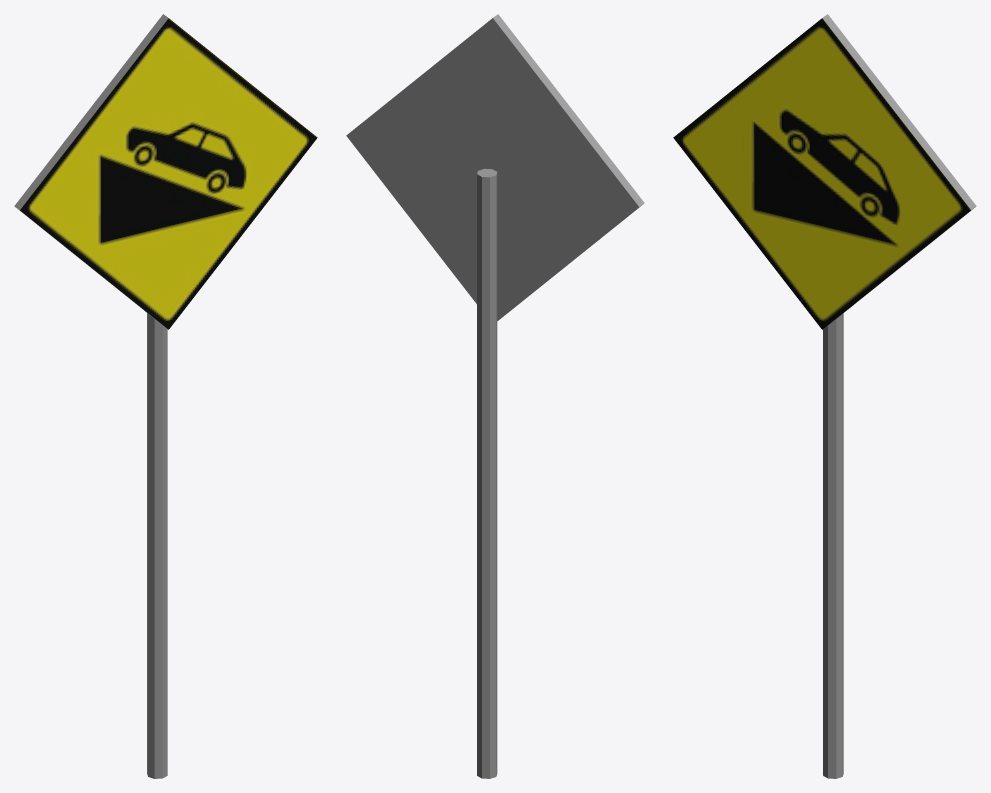
File: PlacaSubida.fbx
The picture shows the model from 3 angles, left to right: view 1: azimuth 30°, elevation 25°; view 2: azimuth 150°, elevation 25°; view 3: azimuth 330°, elevation 25°; orthographic projection.
Parts seen in each view (by area): view 1: PlacaSubida; view 2: PlacaSubida; view 3: PlacaSubida.
Part boxes in pixels (box(x1,y1,x2,y2)): PlacaSubida: box(14, 14, 317, 778); PlacaSubida: box(346, 14, 644, 778); PlacaSubida: box(673, 14, 976, 778).
Size of the model in its own units: 114 by 279 by 11.04.
